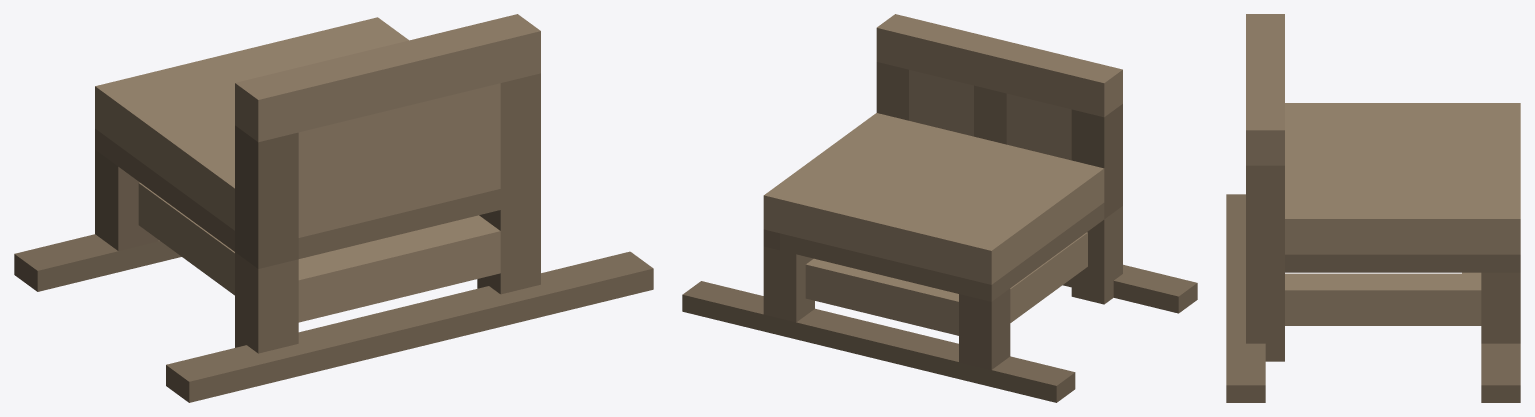
Rendered from mecedora_desgastada_01.glb.
The picture shows the model from 3 angles, left to right: view 1: azimuth 30°, elevation 25°; view 2: azimuth 150°, elevation 25°; view 3: azimuth 270°, elevation 25°; orthographic projection. The views are drawn at different scales.
Parts seen in each view (by area): view 1: mecedora_desgastada; view 2: mecedora_desgastada; view 3: mecedora_desgastada.
Boxes of the visible parts, x1=… form: mecedora_desgastada: x1=14, y1=14, x2=653, y2=402; mecedora_desgastada: x1=682, y1=14, x2=1197, y2=402; mecedora_desgastada: x1=1226, y1=14, x2=1520, y2=402.
Bounding box in the file's own units: 1.64 × 0.9286 × 1.07.
